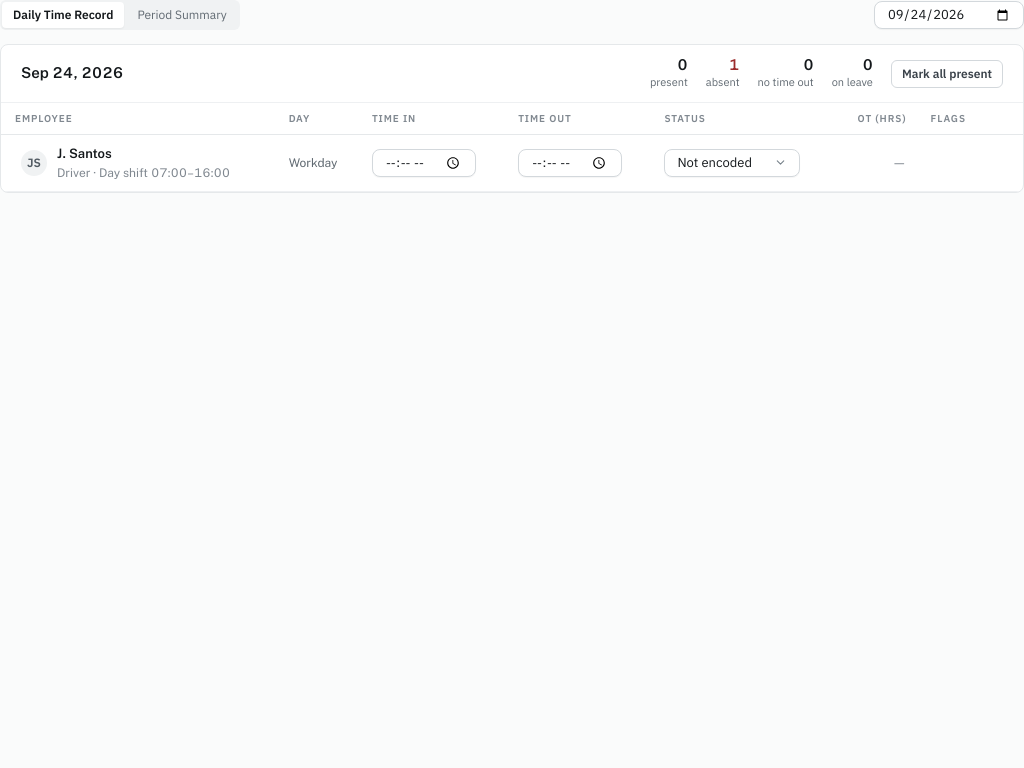
Attendance views › jumps from a day in the drawer to that day in the grid
Step 1. Click the button "JS J. Santos Driver · Day shift 07:00–16:00" → (126, 163), box [21,144,230,182]
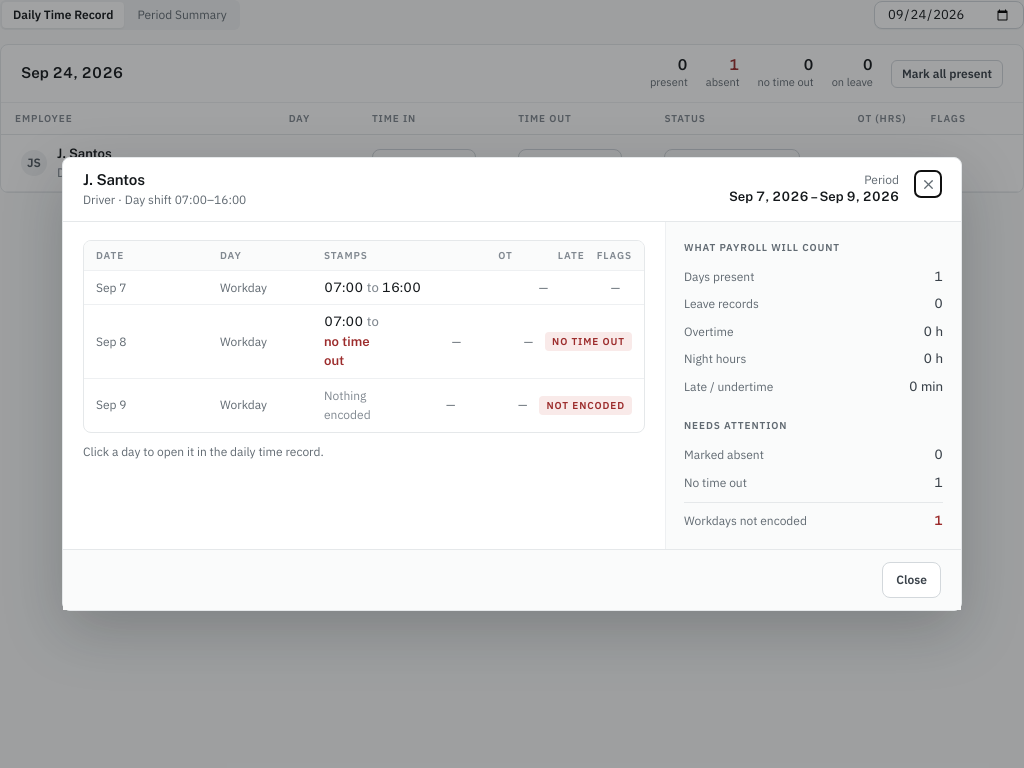
Step 2. Click the button "Sep 9 Workday Nothing encoded — — Not encoded" → (364, 405), box [84,379,644,432]
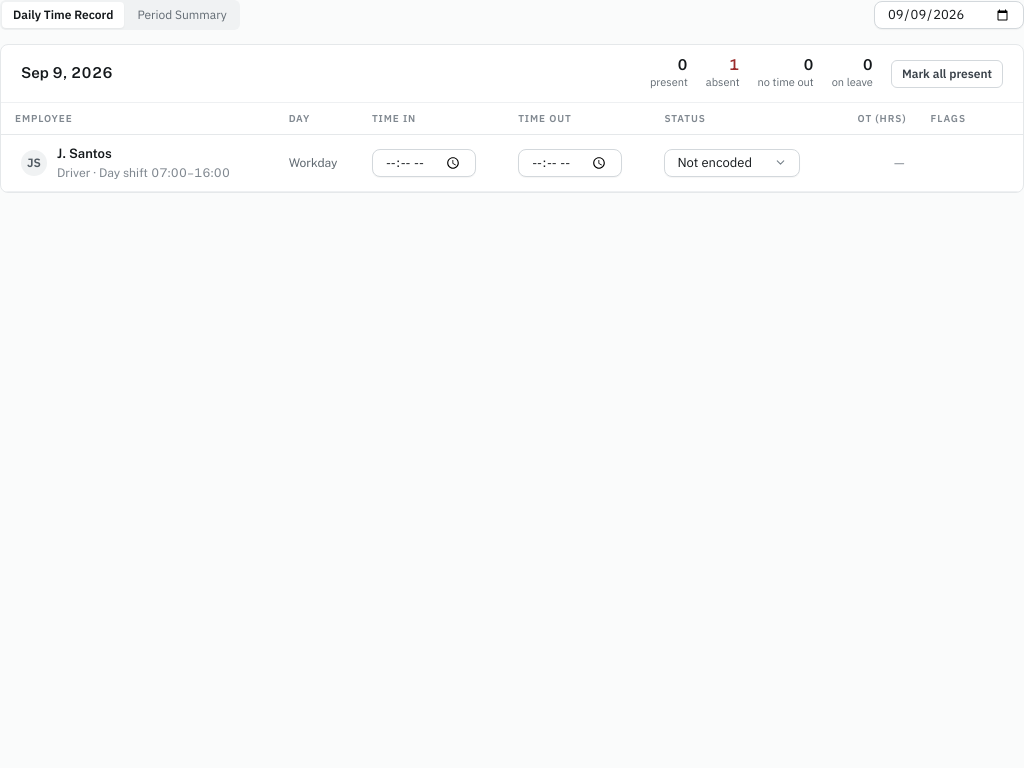
Now the dialog is gone
Now the date field named "Date" holds "2026-09-09", box [874,1,1023,29]
